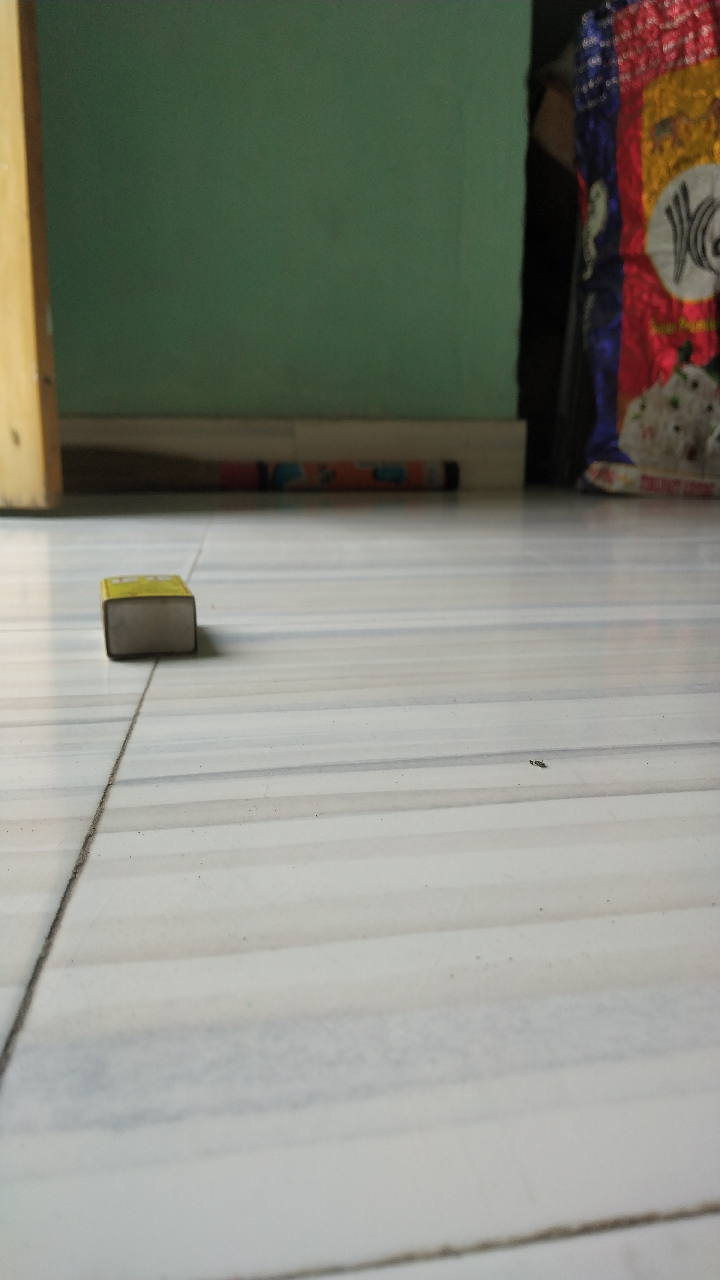Doors: (1, 50, 86, 534)
garments: (89, 564, 217, 671)
